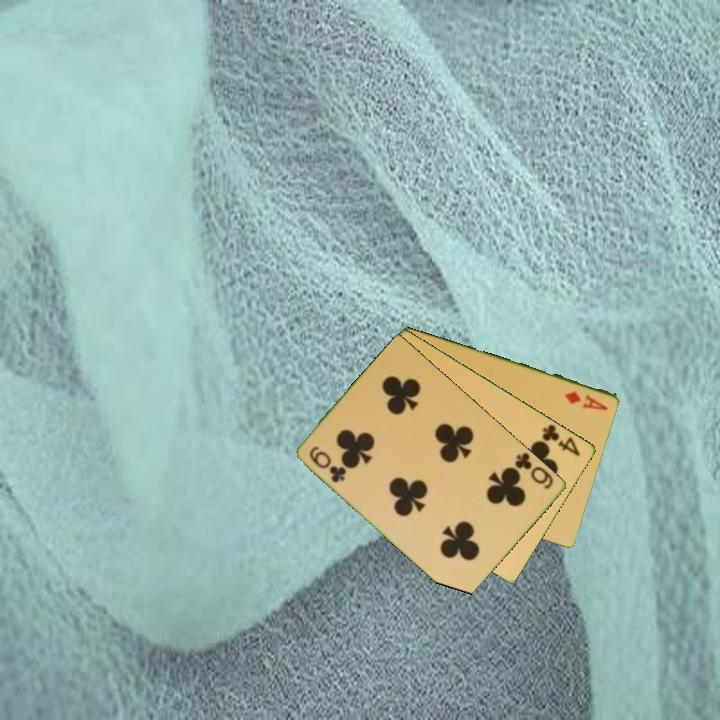4c: (539, 420, 583, 459)
6c: (512, 449, 557, 492), (306, 443, 350, 486)
Ad: (561, 387, 611, 413)
